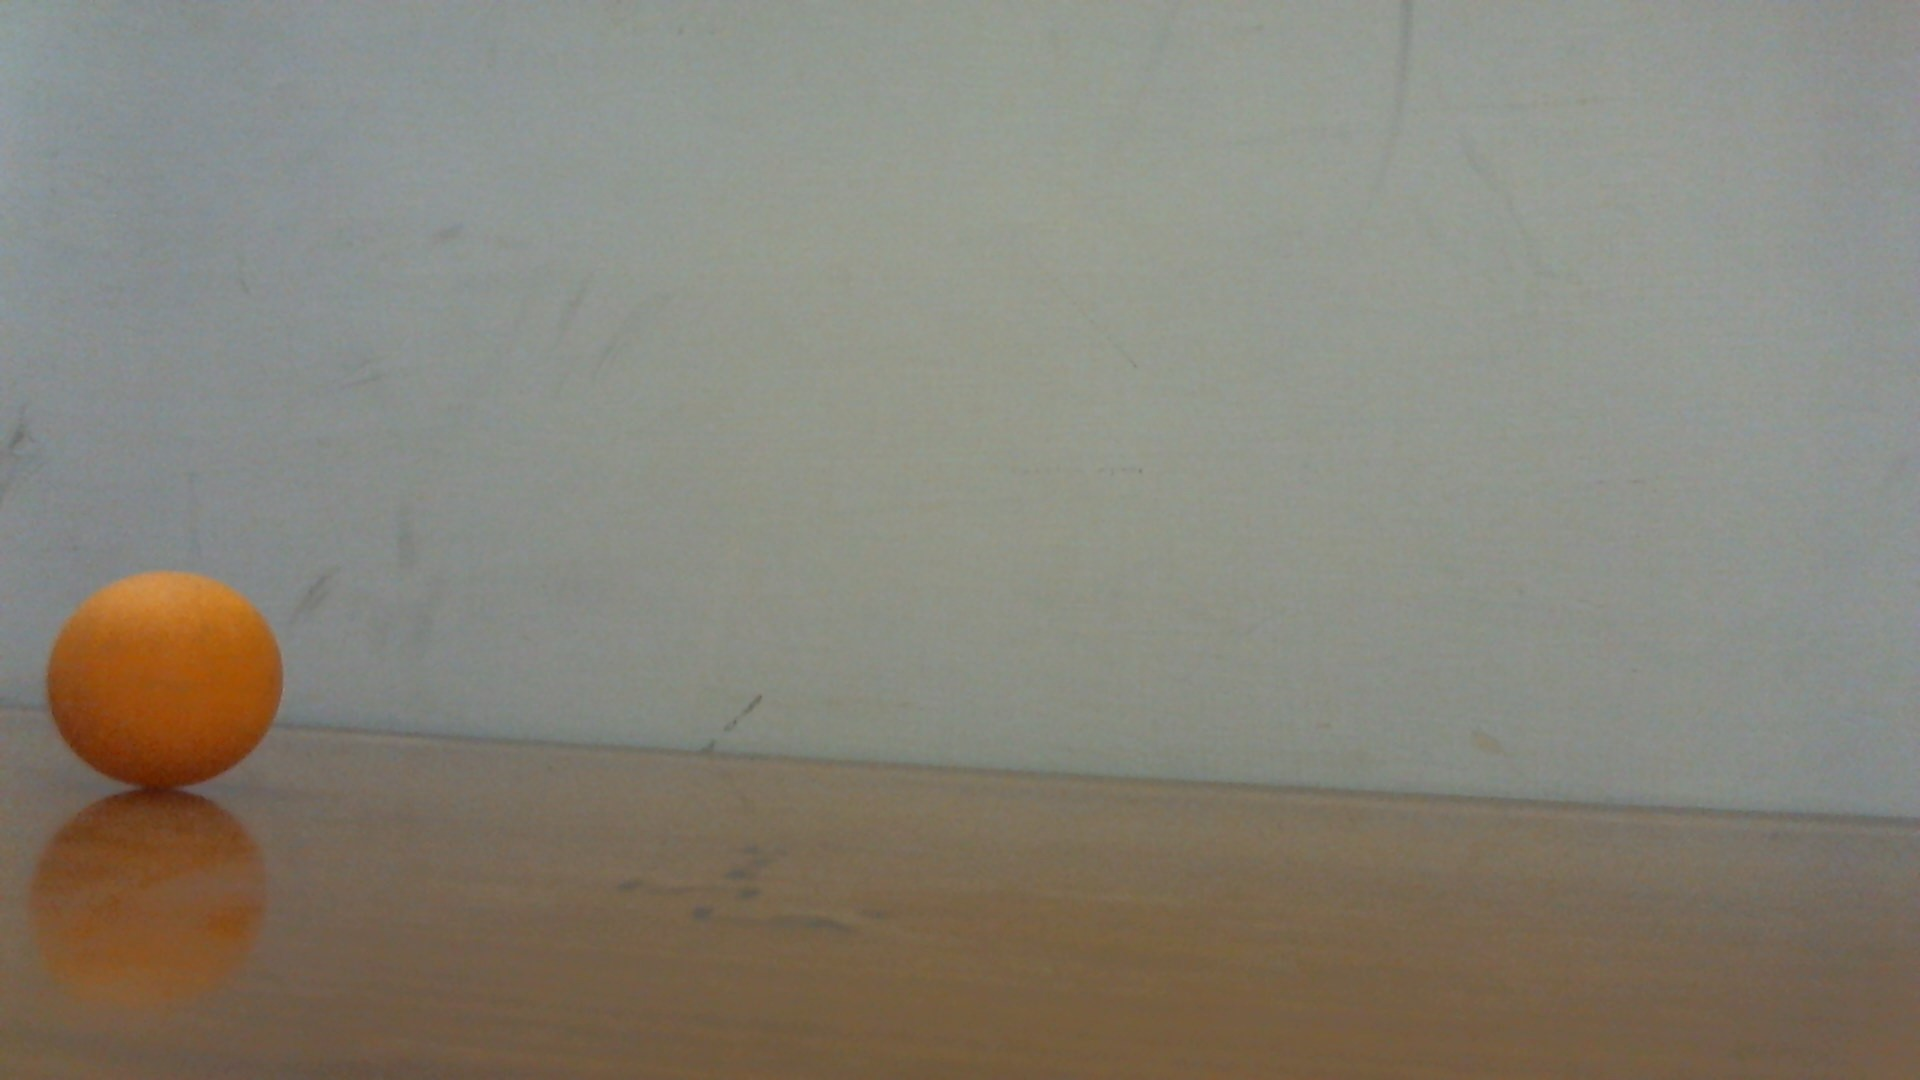ball: (47, 571, 285, 790)
